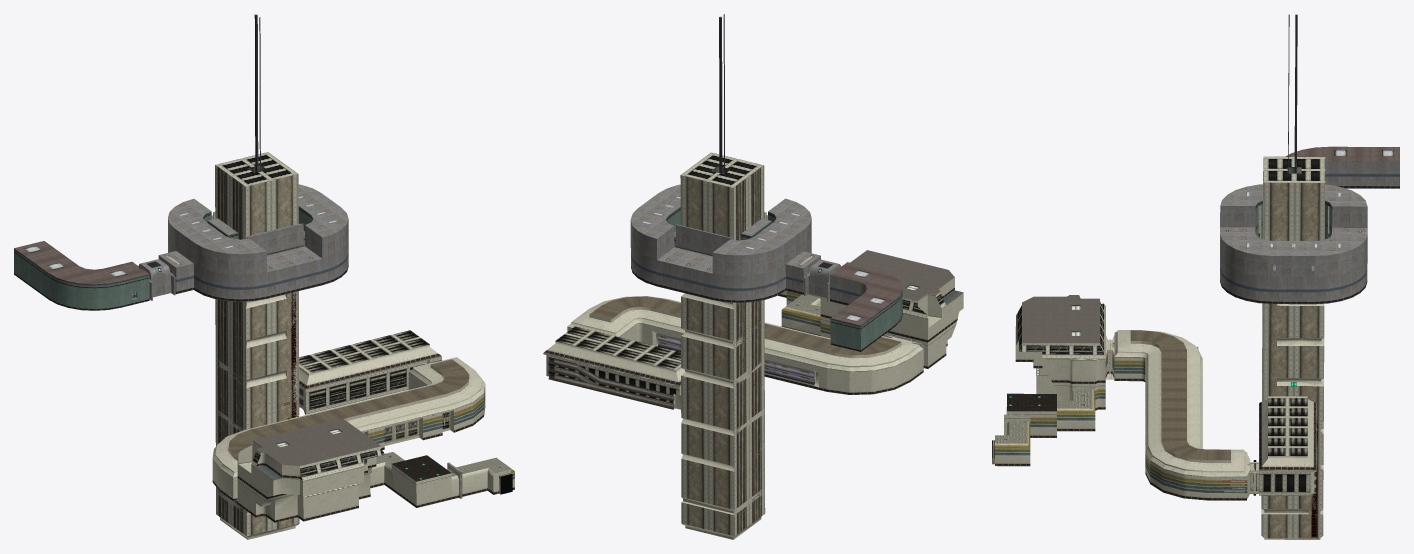
File: c1a0aHL.glb
3 views of the same model, side by side, from view 1: azimuth 30°, elevation 25°; view 2: azimuth 150°, elevation 25°; view 3: azimuth 270°, elevation 25° (orthographic).
Visible parts, largest first — view 1: node62, node49, node89, node38, node5, node14, node4, node20, node63, node58, node59, node10 (+8 smaller); view 2: node89, node49, node62, node38, node5, node58, node59, node44, node20, node10, node63, node40 (+5 smaller); view 3: node89, node49, node5, node62, node59, node20, node63, node58, node44, node18, node30, node10 (+5 smaller).
Part boxes in pixels (left/top/right/bottom): node62: left=212, top=344, right=510, bottom=522; node49: left=138, top=184, right=348, bottom=300; node89: left=213, top=174, right=299, bottom=535; node38: left=213, top=165, right=247, bottom=535; node5: left=168, top=240, right=348, bottom=301; node14: left=238, top=364, right=410, bottom=481; node4: left=14, top=236, right=304, bottom=310; node20: left=228, top=359, right=469, bottom=457; node63: left=253, top=418, right=499, bottom=493; node58: left=212, top=294, right=485, bottom=539; node59: left=166, top=14, right=482, bottom=478; node10: left=299, top=330, right=429, bottom=373; node89: left=680, top=175, right=764, bottom=536; node49: left=630, top=184, right=841, bottom=301; node62: left=543, top=277, right=963, bottom=395; node38: left=731, top=165, right=766, bottom=535; node5: left=630, top=240, right=867, bottom=305; node58: left=567, top=293, right=941, bottom=539; node59: left=546, top=14, right=919, bottom=387; node44: left=543, top=152, right=763, bottom=402; node20: left=589, top=296, right=900, bottom=355; node10: left=555, top=326, right=680, bottom=370; node63: left=850, top=250, right=954, bottom=300; node40: left=830, top=262, right=902, bottom=325; node89: left=1109, top=171, right=1327, bottom=538; node49: left=1220, top=184, right=1367, bottom=277; node5: left=1220, top=161, right=1399, bottom=304; node62: left=1004, top=326, right=1316, bottom=470; node59: left=1009, top=14, right=1316, bottom=498; node20: left=1130, top=330, right=1230, bottom=460; node63: left=992, top=295, right=1099, bottom=464; node58: left=1018, top=303, right=1324, bottom=539; node44: left=1247, top=156, right=1325, bottom=495; node18: left=1112, top=350, right=1247, bottom=500; node30: left=995, top=350, right=1107, bottom=466; node10: left=1268, top=396, right=1307, bottom=456.
Size of the model in its own units: 2336 by 3077 by 2213.
87 materials, 87 textured.
